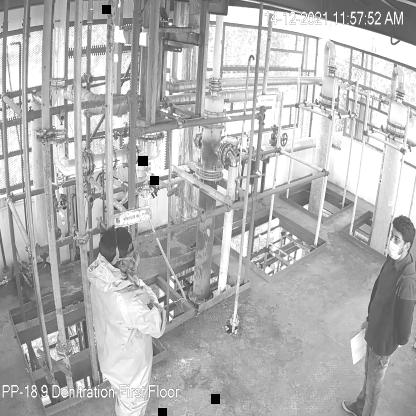no_goggles: (390, 231, 404, 249)
